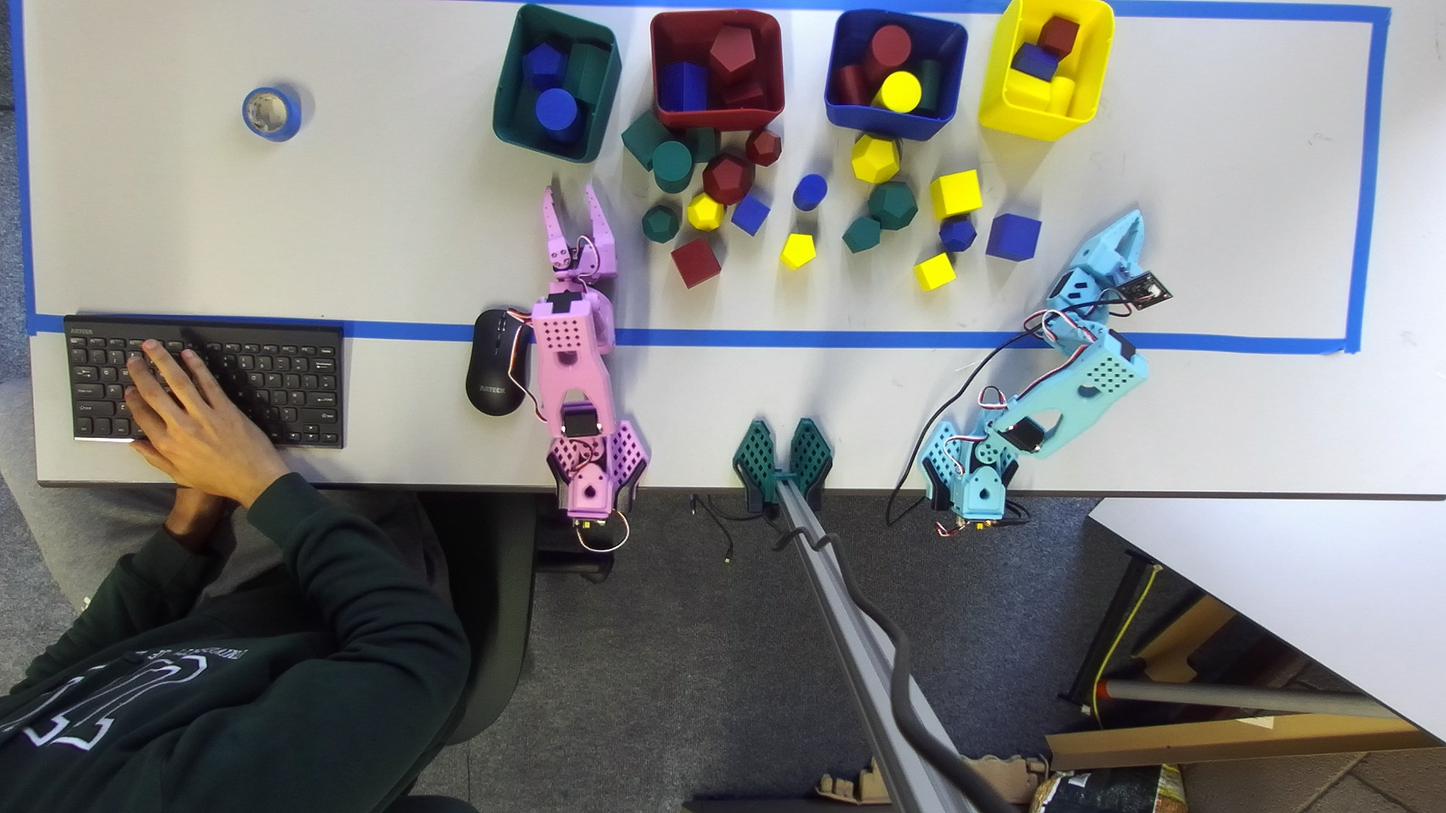bin: (493, 5, 621, 163), (978, 0, 1114, 140), (825, 9, 967, 140), (651, 9, 784, 130)
cube: (621, 111, 673, 169), (929, 170, 981, 219), (986, 214, 1041, 260), (671, 239, 721, 288), (1037, 16, 1078, 57), (731, 193, 769, 236), (913, 253, 954, 290), (679, 127, 720, 163)
cylinder: (863, 24, 911, 86), (535, 88, 581, 142), (651, 141, 693, 192), (872, 71, 921, 112), (914, 59, 942, 114), (836, 65, 869, 105), (793, 174, 827, 211), (1048, 74, 1075, 114)
dodecahedron: (703, 153, 754, 205), (868, 180, 917, 230), (851, 135, 899, 184), (523, 42, 566, 90), (686, 191, 725, 230), (642, 203, 680, 242), (938, 214, 976, 252), (746, 129, 782, 166)
gripper: (542, 178, 617, 282), (1068, 209, 1144, 287)
hexagonal: (564, 44, 609, 106), (709, 26, 755, 85), (657, 62, 707, 111), (1003, 70, 1052, 111), (1011, 42, 1058, 81), (779, 233, 815, 269), (843, 217, 880, 252), (721, 83, 766, 107)
